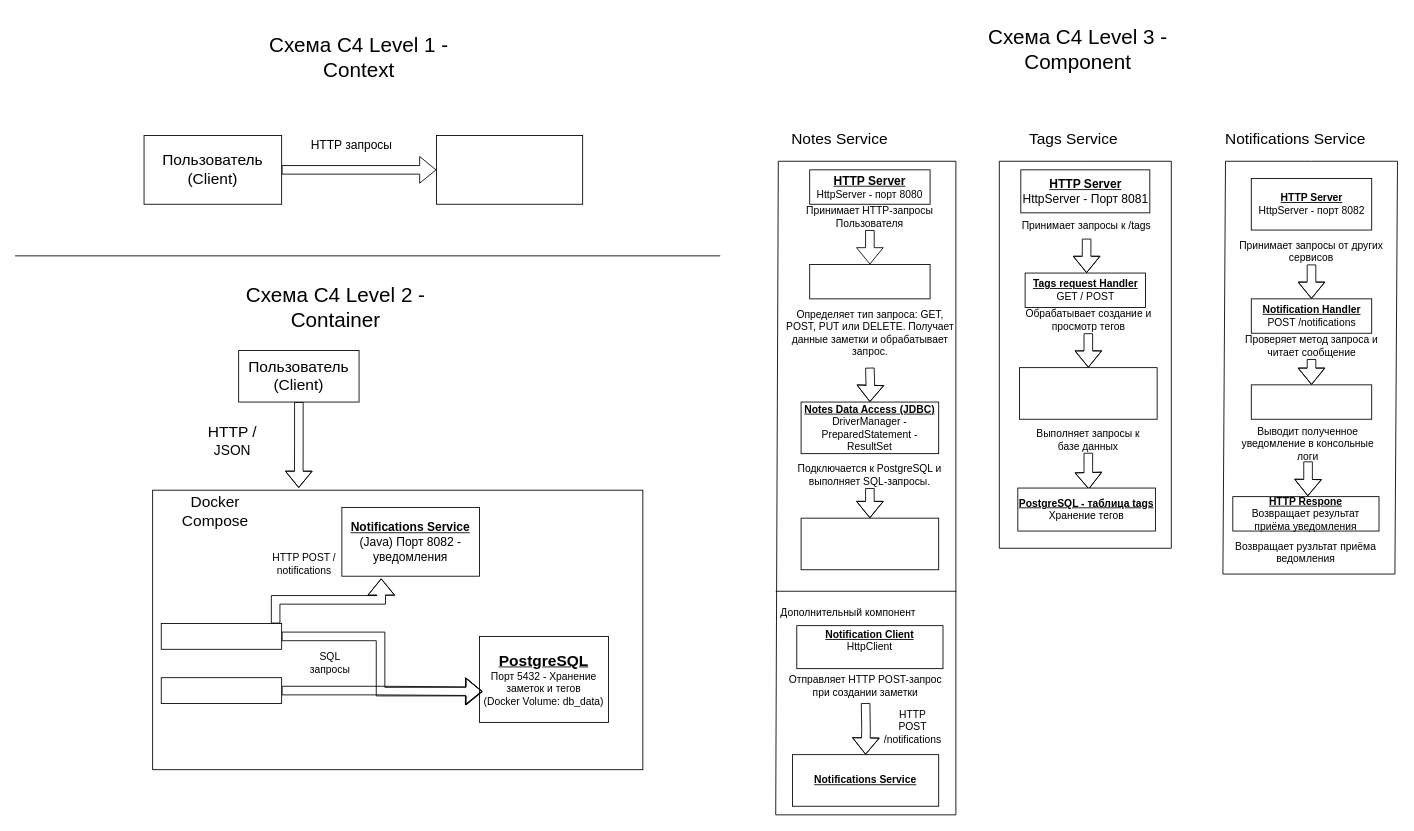
The diagram is 1414 pixels wide and 831 high, and some of its shapes have lost their labels. The shapes that lost their labels are listed below. From the top down, each one's centre as x and y in pixels, then its label:
pixel 509 169: Система заметок (Notes Service System)
pixel 869 281: Notes Request Handler обработчик /notes
pixel 1088 393: Tags Data Access (JDBC) DriverManager - PreparedStatment - ResultSet
pixel 1311 401: Notification Logger System.out.println()
pixel 869 543: PostgreSQL - таблица notes Хранение заметок
pixel 221 636: Notes Service (Java) Порт 8080 - заметки
pixel 221 690: Tags Service (Java) Порт 8081 - Теги
